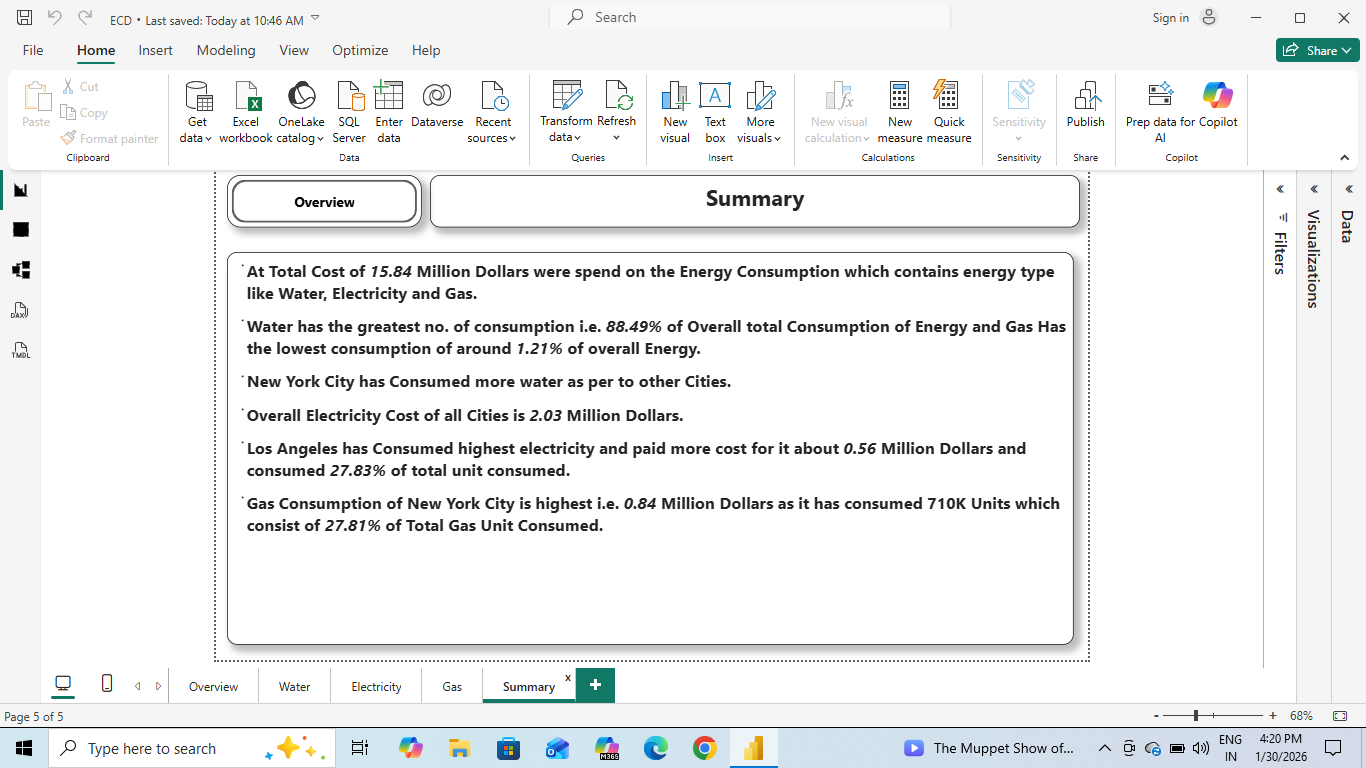

What the dashboard file says about the page in this screenshot:
{"tool":"powerbi","page":{"name":"Summary","canvas":[1280,720],"ordinal":4},"visuals":[{"type":"textbox","box":[315.2,6.9,955.2,77.1],"z":0},{"type":"actionButton","title":"Water","box":[16.5,6.9,286.3,77.1],"z":1000},{"type":"textbox","box":[16.5,121.1,1244.2,576.7],"z":2000}]}

Visuals, with their boxes on the page's 1280x720 design canvas (x1, y1, x2, y2). These are canvas units, not pixel positions in the 1366x768 screenshot, which may show the page scaled, cropped or inside an application window:
textbox: {"x1": 315, "y1": 7, "x2": 1270, "y2": 84}
"Water" actionButton: {"x1": 16, "y1": 7, "x2": 303, "y2": 84}
textbox: {"x1": 16, "y1": 121, "x2": 1261, "y2": 698}
